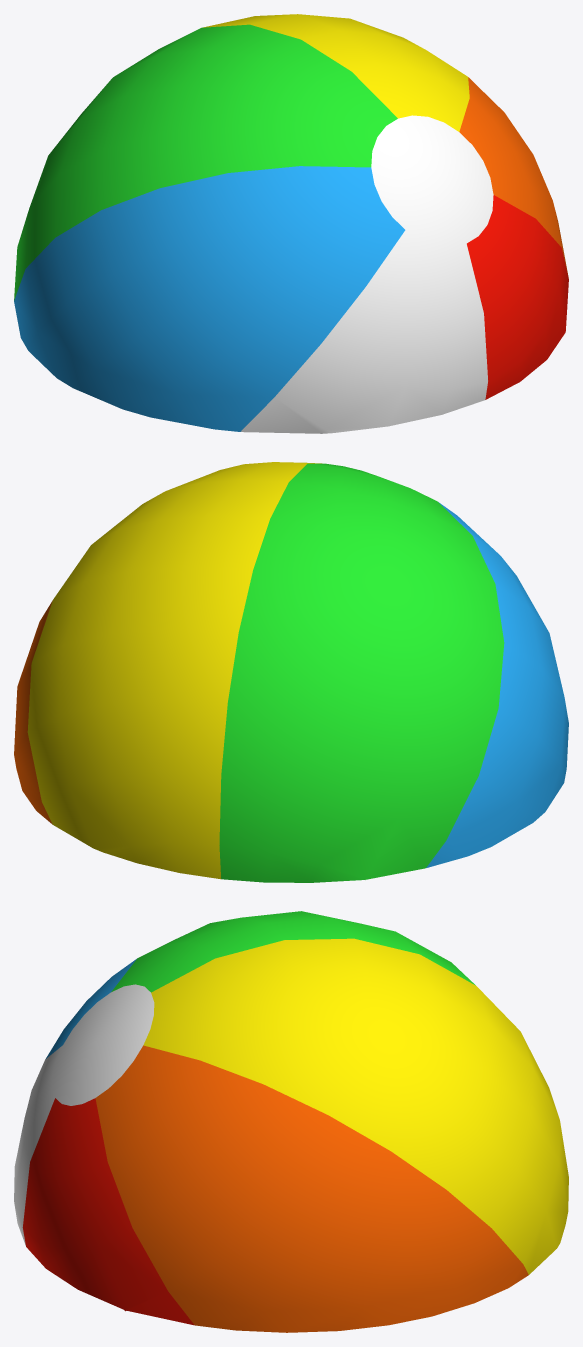
File: Cake_ThemeToys_D.FBX
3 renders of one model, top to bottom at view 1: azimuth 30°, elevation 25°; view 2: azimuth 150°, elevation 25°; view 3: azimuth 270°, elevation 25°, orthographic.
Visible parts, largest first — view 1: Cake_ThemeToys_D; view 2: Cake_ThemeToys_D; view 3: Cake_ThemeToys_D.
Boxes of the visible parts, <box> form: Cake_ThemeToys_D: <box>14,14,568,433</box>; Cake_ThemeToys_D: <box>14,462,568,882</box>; Cake_ThemeToys_D: <box>14,911,568,1332</box>.
Size of the model in its own units: 83978 by 47050 by 84197.
